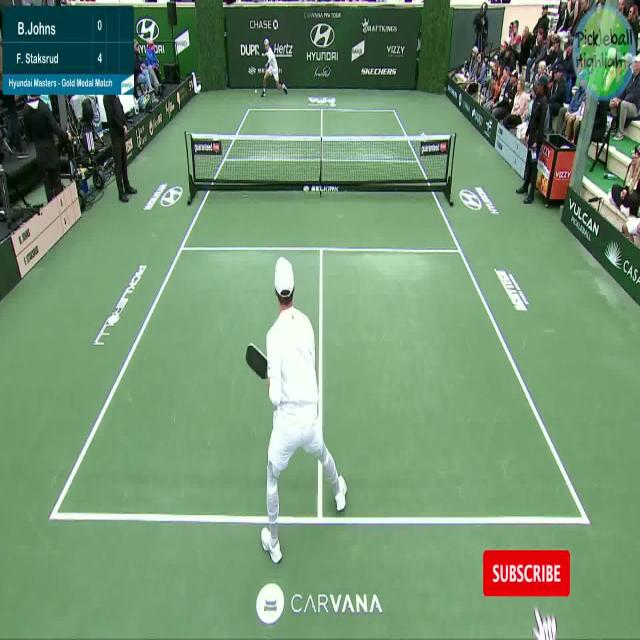Court: (52, 108, 590, 524)
ball: (252, 80, 259, 98)
